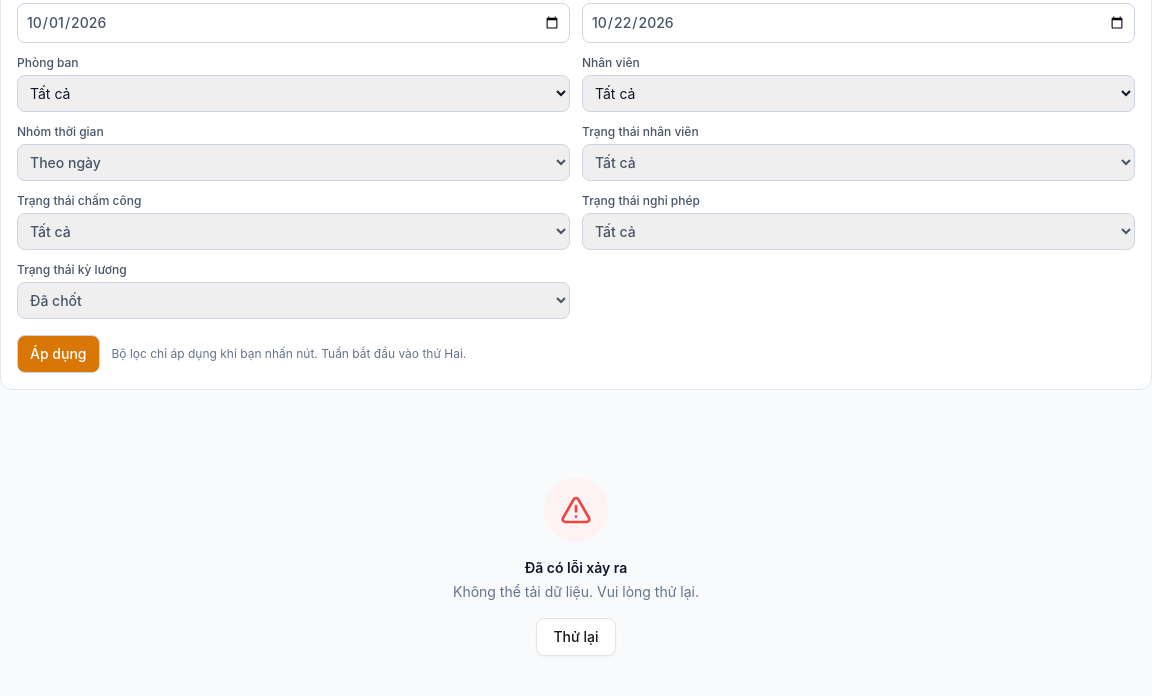
Test: HR reports dashboard › retries transport errors and never fabricates zero data
(page scrolled)
Expected: the text "Không thể tải dữ liệu. Vui lòng thử lại." is shown, [453, 582, 699, 602]
Expected: the text "Tổng nhân sự" is not shown
Click the button "Thử lại": (576, 637) [536, 618, 616, 656]
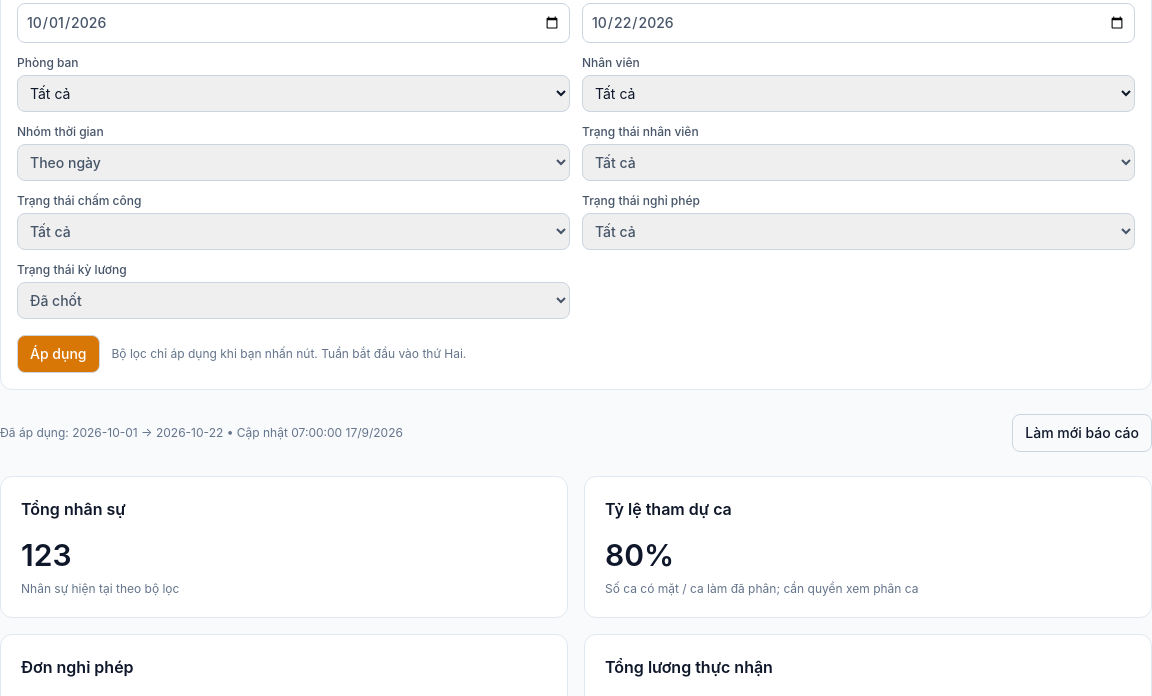
Result: the text "80%" is shown at [605, 537, 674, 573]
